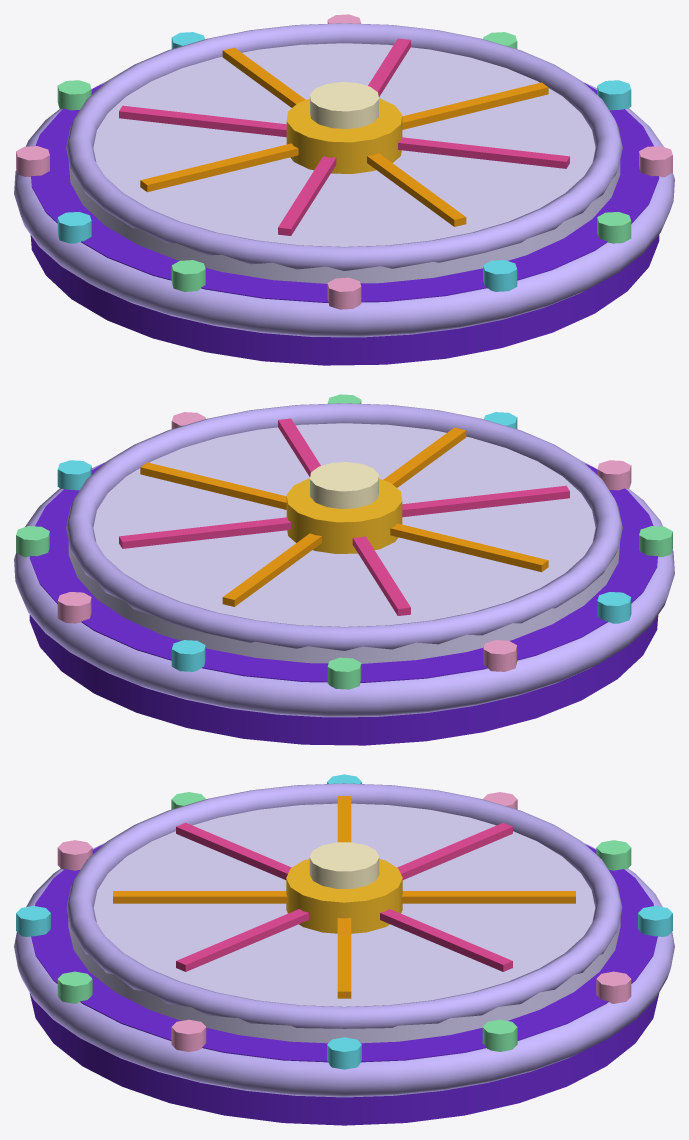
File: toy_sky_spinning_disc.glb
3 renders of one model, top to bottom at view 1: azimuth 30°, elevation 25°; view 2: azimuth 150°, elevation 25°; view 3: azimuth 270°, elevation 25°, orthographic.
Visible parts, largest first — view 1: solid_5, solid_1, solid_6, solid_2, solid_7, solid_8, solid_10, solid_14, solid_13, solid_9, solid_11, solid_12 (+11 smaller); view 2: solid_5, solid_1, solid_6, solid_2, solid_7, solid_8, solid_16, solid_12, solid_13, solid_9, solid_15, solid_14 (+11 smaller); view 3: solid_5, solid_1, solid_6, solid_2, solid_7, solid_8, solid_11, solid_15, solid_10, solid_16, solid_12, solid_14 (+11 smaller).
Boxes of the visible parts, x1,y1,x2,y2 form: solid_5: (68, 43, 620, 283); solid_1: (30, 83, 659, 365); solid_6: (66, 23, 622, 270); solid_2: (14, 81, 674, 337); solid_7: (286, 98, 402, 173); solid_8: (310, 82, 378, 128); solid_10: (398, 137, 569, 168); solid_14: (119, 105, 286, 137); solid_13: (140, 143, 298, 192); solid_9: (402, 82, 548, 129); solid_11: (367, 153, 466, 226); solid_12: (278, 156, 336, 235); solid_5: (68, 423, 620, 663); solid_1: (29, 463, 658, 745); solid_6: (66, 403, 622, 650); solid_2: (14, 461, 674, 717); solid_7: (286, 478, 402, 553); solid_8: (310, 462, 378, 508); solid_16: (119, 517, 290, 548); solid_12: (402, 485, 569, 517); solid_13: (390, 523, 548, 572); solid_9: (140, 462, 286, 509); solid_15: (222, 533, 321, 606); solid_14: (352, 536, 410, 615); solid_5: (68, 803, 620, 1043); solid_1: (29, 844, 659, 1125); solid_6: (66, 783, 622, 1028); solid_2: (14, 842, 674, 1097); solid_7: (286, 859, 402, 933); solid_8: (309, 842, 379, 888); solid_11: (113, 891, 287, 903); solid_15: (401, 891, 575, 903); solid_10: (176, 909, 308, 971); solid_16: (380, 909, 512, 971); solid_12: (176, 822, 291, 879); solid_14: (397, 822, 512, 879).
Size of the model in its own units: 3.4 by 0.77 by 3.4.
